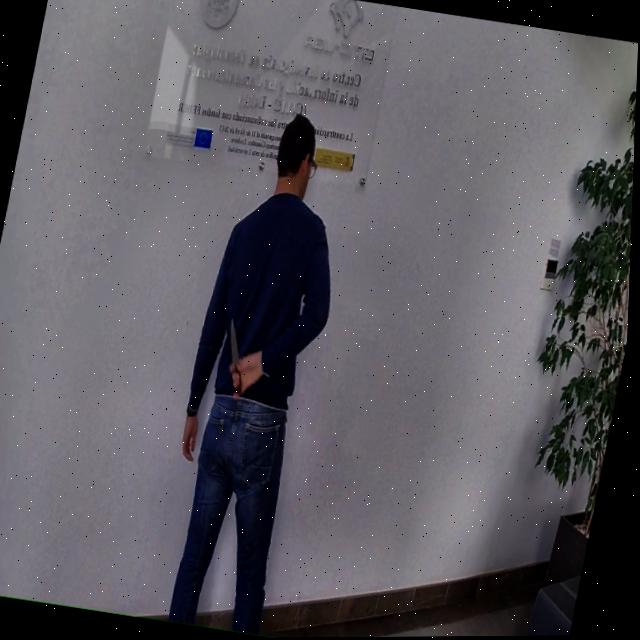knife: (220, 313, 249, 363)
